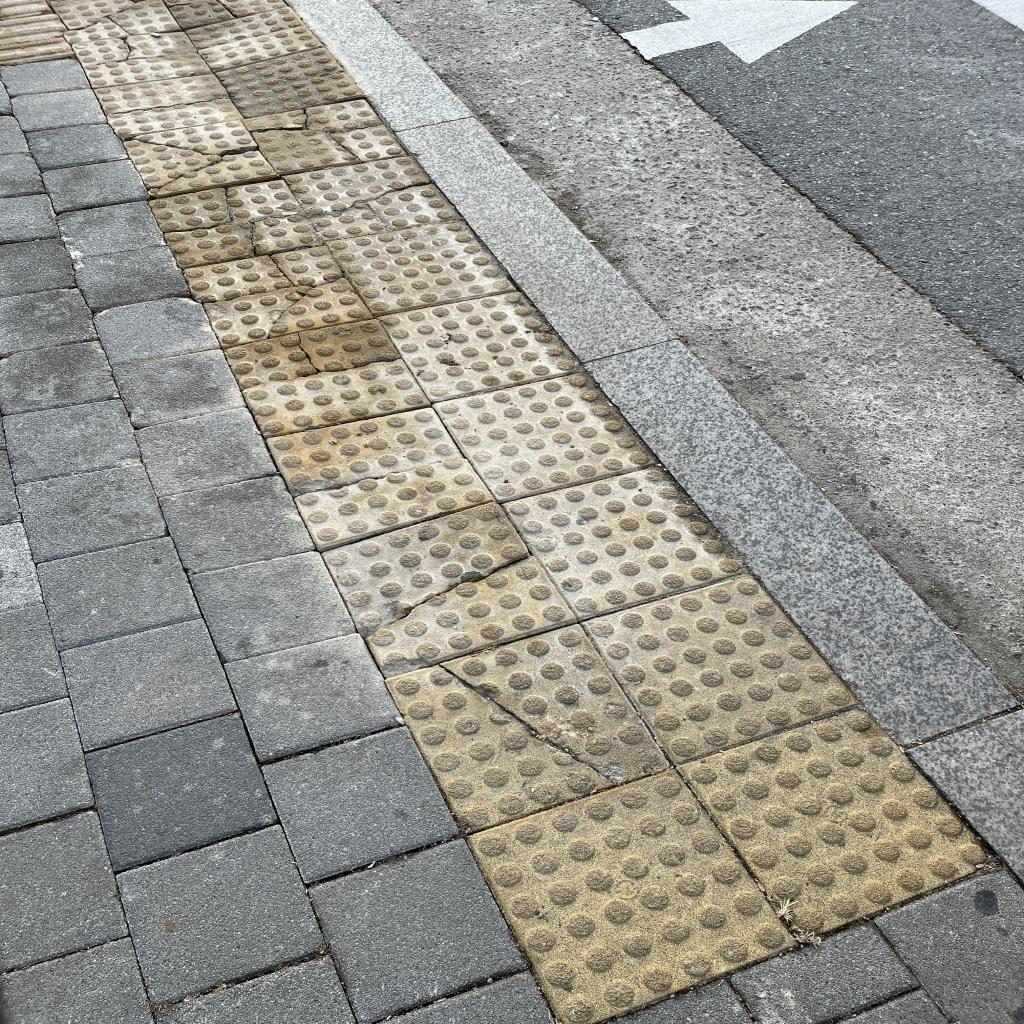Stop block broken: (385, 604, 670, 842), (323, 490, 573, 682), (267, 384, 493, 555), (223, 311, 429, 441), (184, 236, 371, 351), (285, 149, 459, 245), (150, 175, 321, 270), (124, 112, 277, 201), (245, 95, 406, 177), (95, 70, 241, 139), (73, 29, 211, 88)
Stop block normal: (469, 746, 798, 1024), (681, 673, 993, 954), (583, 549, 855, 775), (506, 446, 747, 629), (433, 357, 656, 510), (379, 278, 583, 408), (329, 213, 515, 319)
